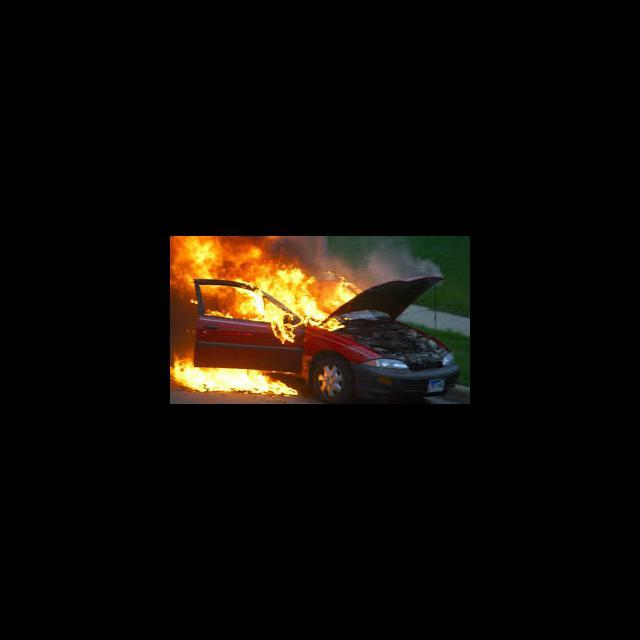Fire: (171, 278, 294, 322), (286, 259, 356, 331), (171, 356, 298, 395), (171, 236, 286, 278)
Smoke: (358, 238, 443, 288)
